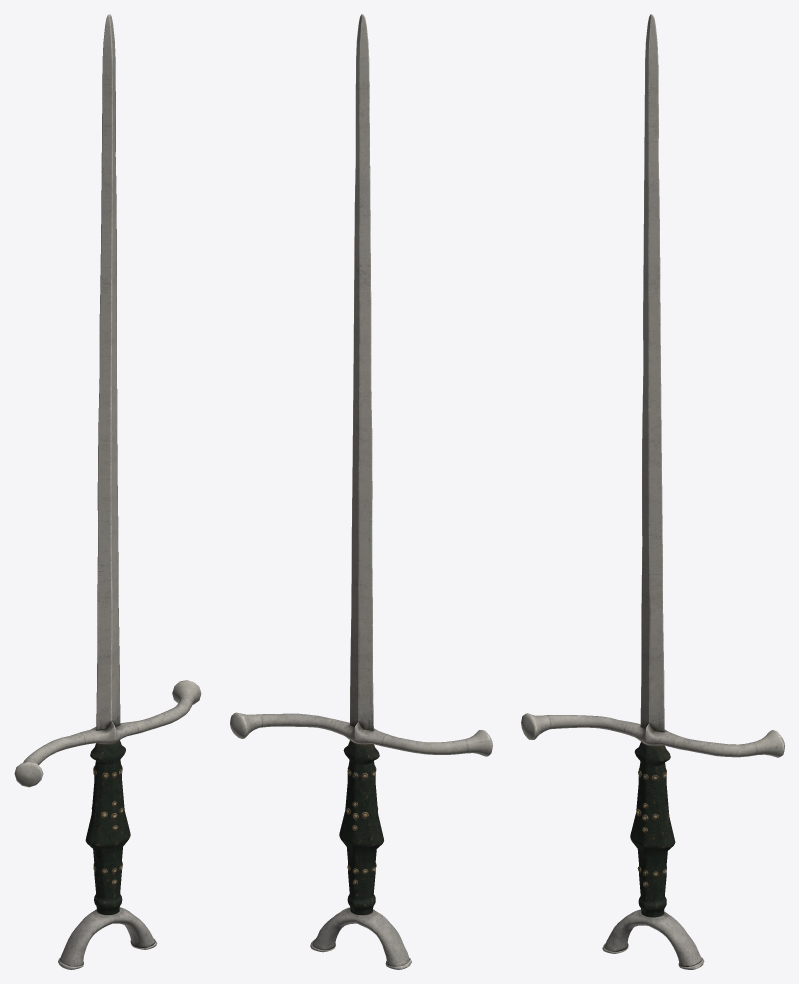
File: antique_estoc.gltf
3 views of the same model, side by side, from view 1: azimuth 30°, elevation 25°; view 2: azimuth 150°, elevation 25°; view 3: azimuth 330°, elevation 25° (orthographic).
Parts seen in each view (by area): view 1: antique_estoc; view 2: antique_estoc; view 3: antique_estoc.
Part boxes in pixels (left/top/right/bottom): antique_estoc: left=14, top=14, right=201, bottom=969; antique_estoc: left=230, top=14, right=492, bottom=969; antique_estoc: left=521, top=14, right=784, bottom=969.
Size of the model in its own units: 0.3715 by 1.49 by 0.1491.
Materials: 1 (1 with a texture image).
